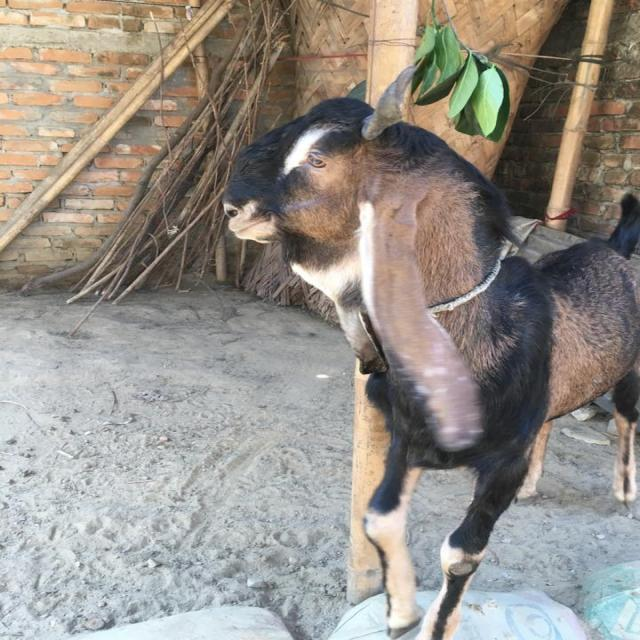Goat: (221, 63, 640, 639)
